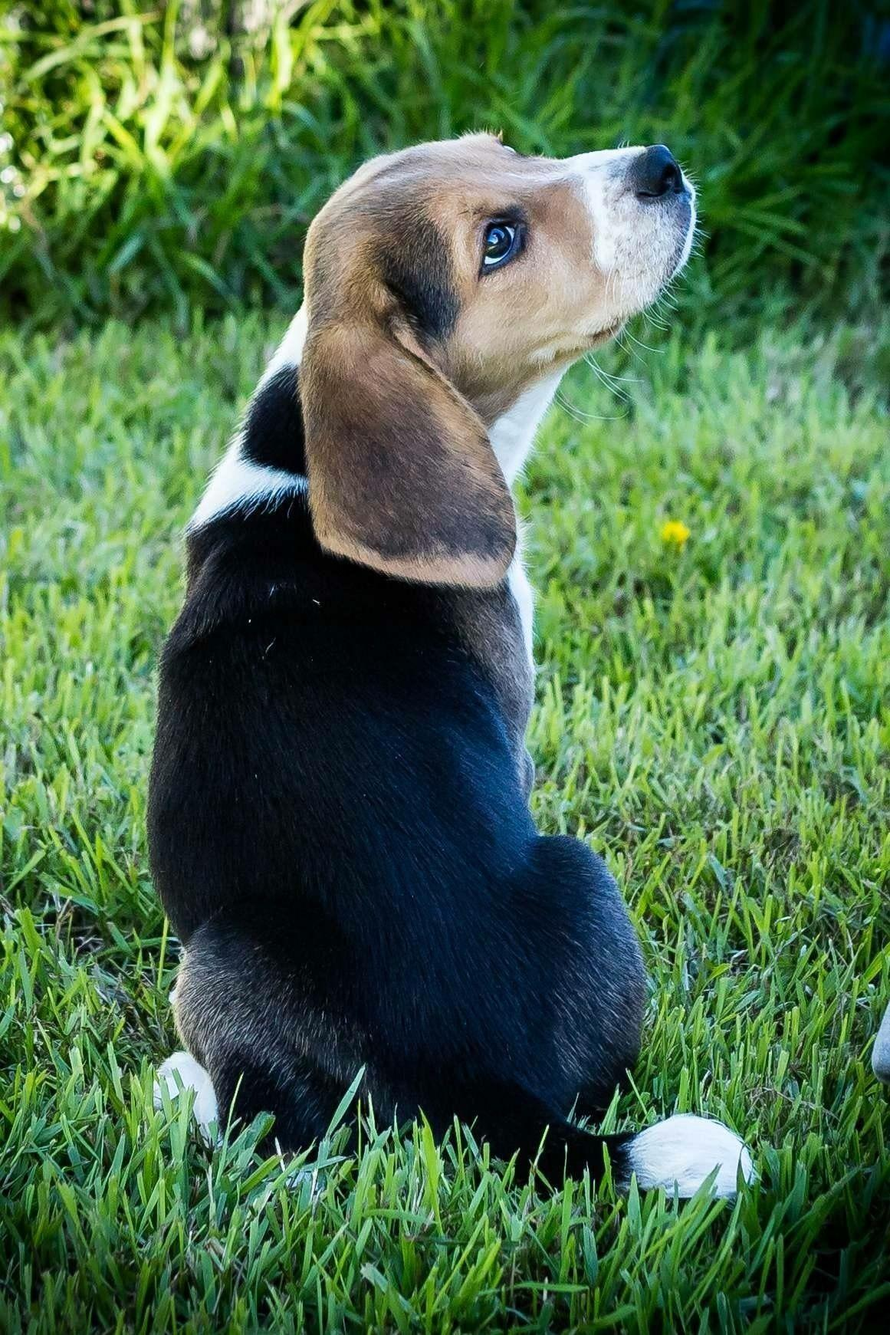puppy-dog: (140, 121, 769, 1212)
